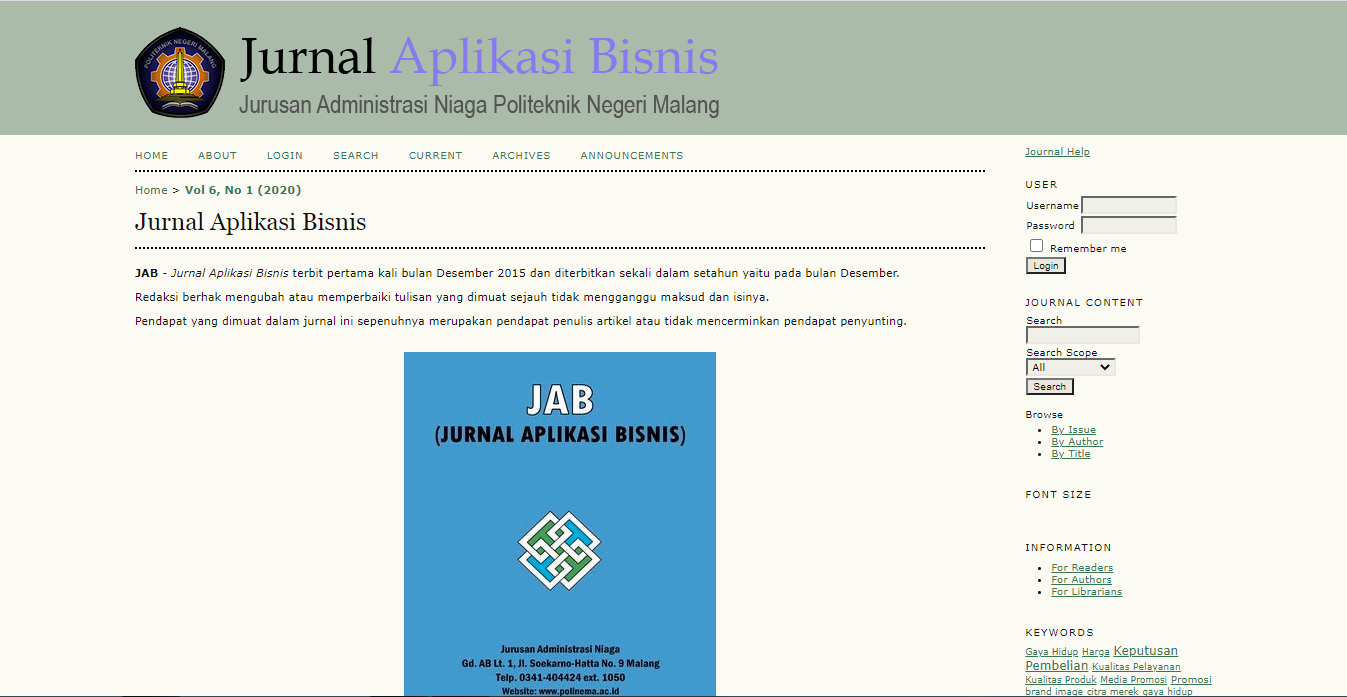Button: (1020, 256, 1073, 275), (1022, 378, 1077, 396)
Image: (404, 351, 715, 697), (127, 22, 230, 127)
Menu Bar: (129, 140, 693, 170)
Nav Bar: (1024, 646, 1213, 697), (1049, 559, 1127, 601), (181, 176, 304, 200), (1049, 419, 1109, 463), (1023, 142, 1094, 164), (131, 183, 174, 198)
Side Bar: (1009, 142, 1236, 697)
Text Field: (1078, 192, 1180, 218), (1023, 324, 1142, 346), (1079, 218, 1178, 236)
